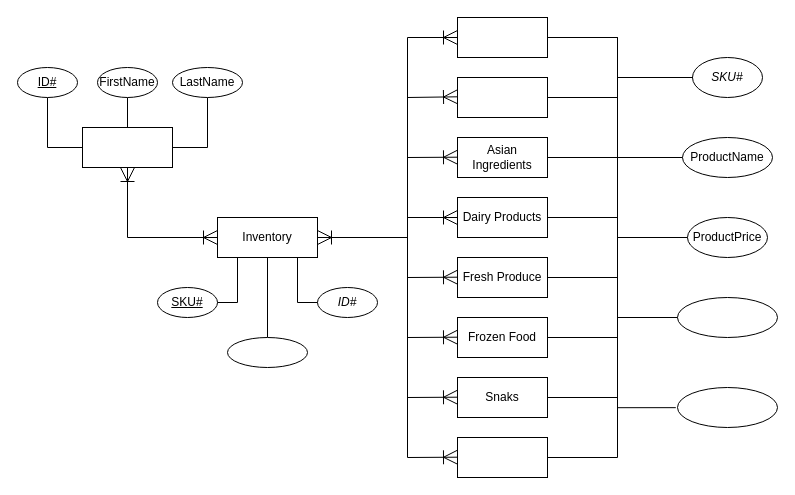
Some shapes in this 795 by 495 pixel diagram are drawn without their labels. Here are the shapes that lost their labels. From the top down, the centre of each, then its label:
the point at 502,37: Beverages
the point at 502,97: Candy
the point at 127,147: Employees
the point at 727,317: ProductInStock
the point at 267,352: ProductType
the point at 727,407: ProductOnShelf
the point at 502,457: Souvenirs
